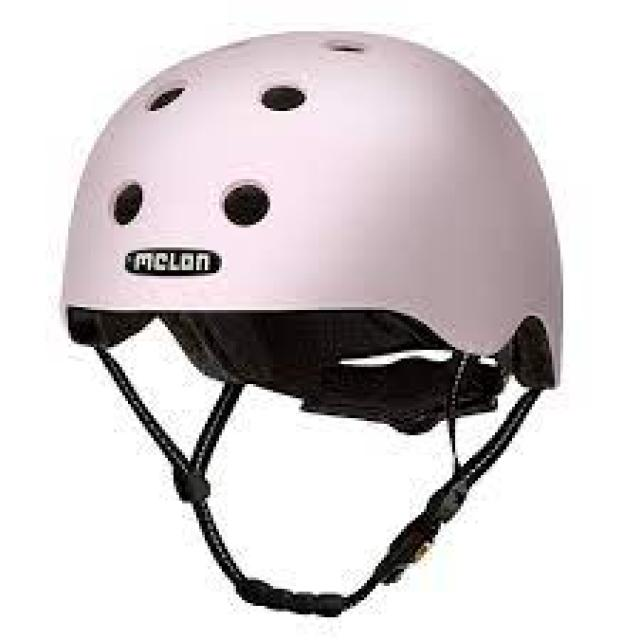Helmet: (43, 16, 597, 433)
